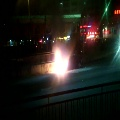fire: (47, 48, 68, 75)
